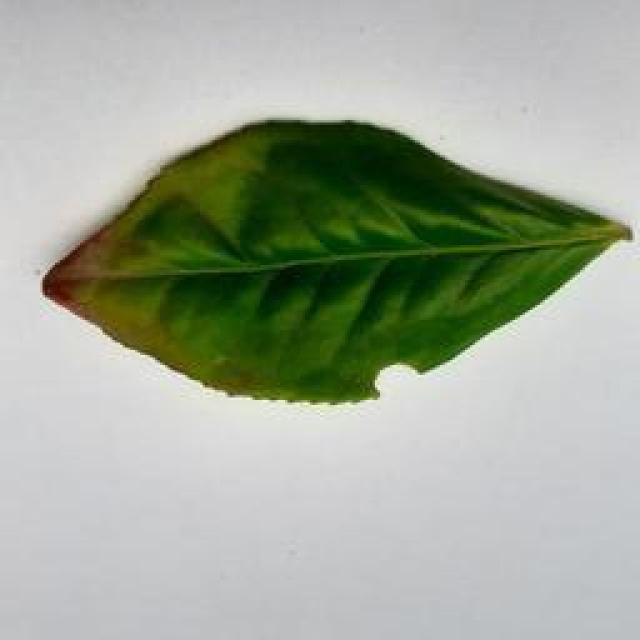Red Leaf Spot: (11, 117, 635, 413)
